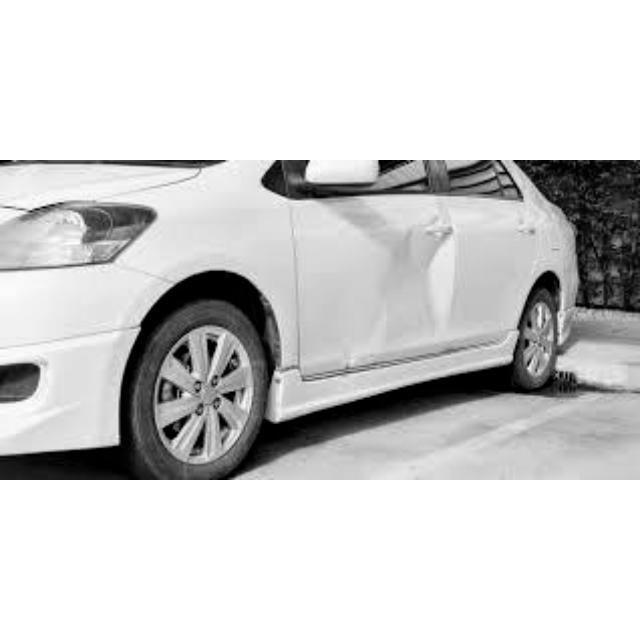doorouter-dent: (294, 197, 459, 360)
